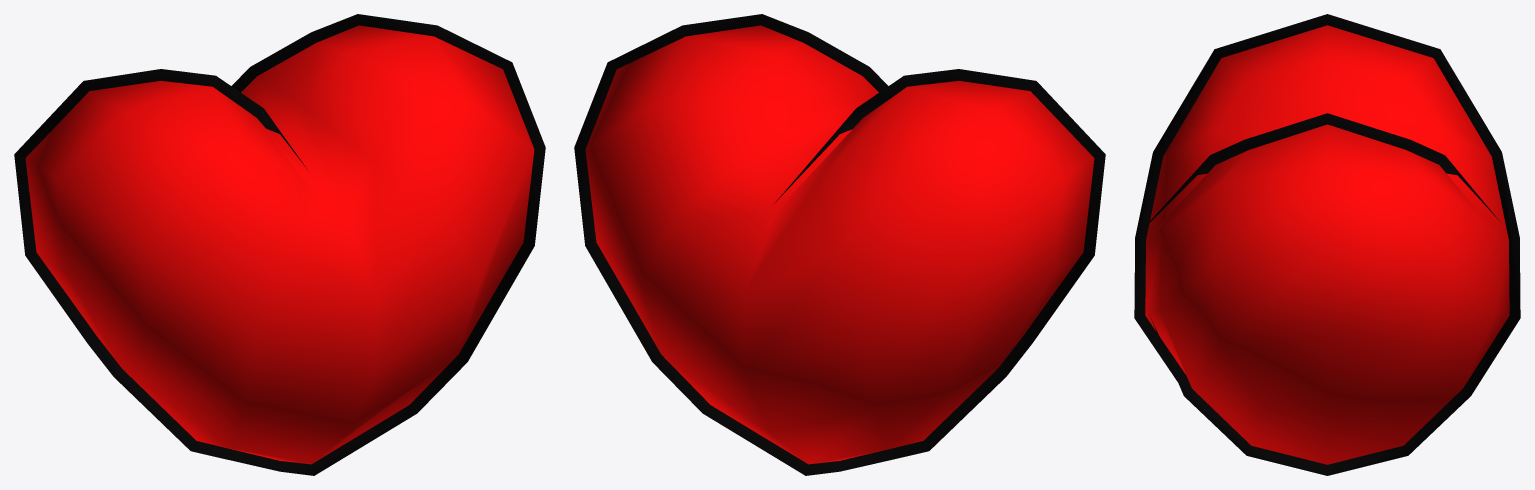
Rendered from Heart_UI.fbx.
3 views of the same model, side by side, from view 1: azimuth 30°, elevation 25°; view 2: azimuth 150°, elevation 25°; view 3: azimuth 270°, elevation 25° (orthographic). The views are drawn at different scales.
Visible parts, largest first — view 1: heart_UI; view 2: heart_UI; view 3: heart_UI.
Part boxes in pixels (box(x1,y1,x2,y2)): heart_UI: box(14, 14, 545, 475); heart_UI: box(574, 14, 1105, 475); heart_UI: box(1134, 14, 1520, 475).
Size of the model in its own units: 328 by 277 by 248.
